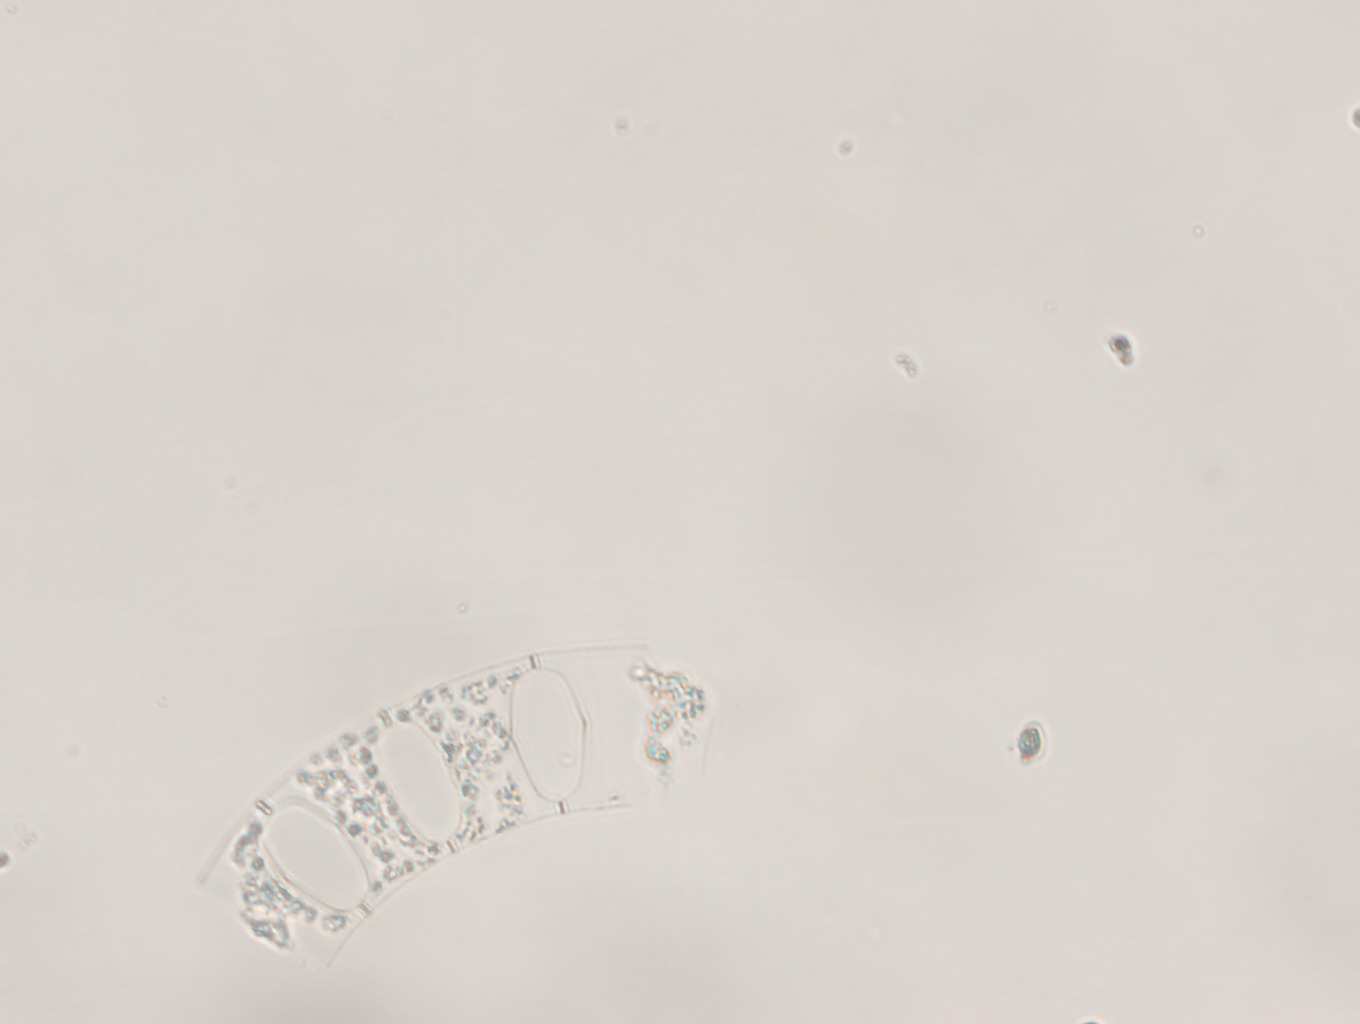eucampia: (185, 634, 742, 970)
